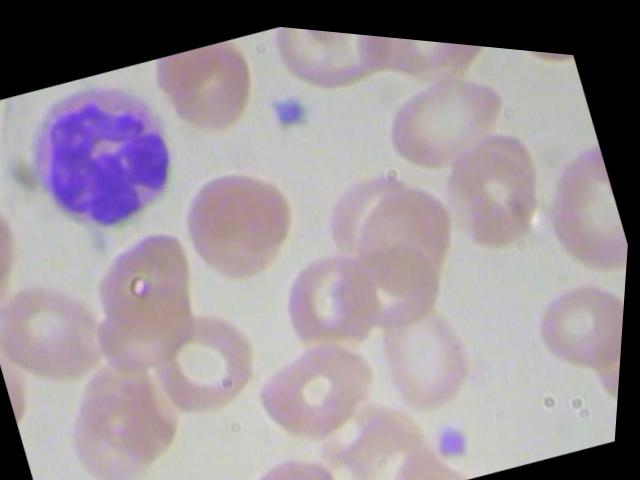Platelets: (430, 402, 485, 462), (264, 76, 317, 132)
Red Blood Cells: (411, 95, 583, 272), (162, 138, 326, 299), (364, 38, 530, 188), (244, 312, 405, 461), (363, 268, 505, 422), (0, 256, 138, 412), (138, 285, 278, 431), (526, 125, 635, 281), (138, 24, 272, 150), (258, 20, 406, 110), (527, 248, 628, 378)
White Blood Cells: (5, 49, 215, 261)
